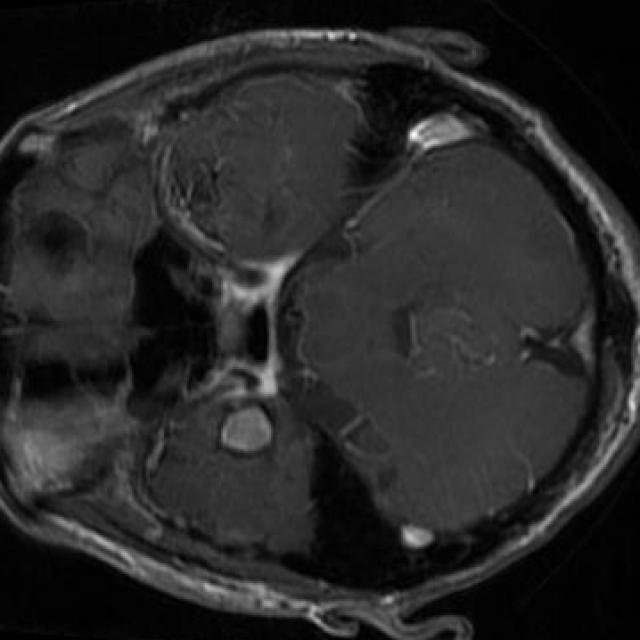glioma: (223, 406, 271, 451)
